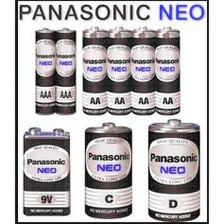battery: (143, 117, 202, 222), (81, 119, 135, 220), (22, 124, 73, 218), (129, 23, 160, 116), (78, 22, 109, 115), (153, 25, 184, 115), (106, 24, 133, 116), (34, 25, 59, 116), (56, 24, 77, 116)
